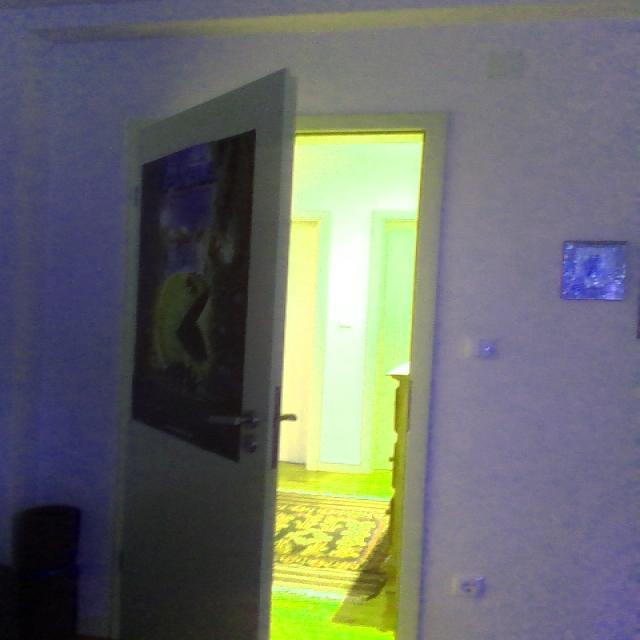door: (113, 51, 457, 640)
